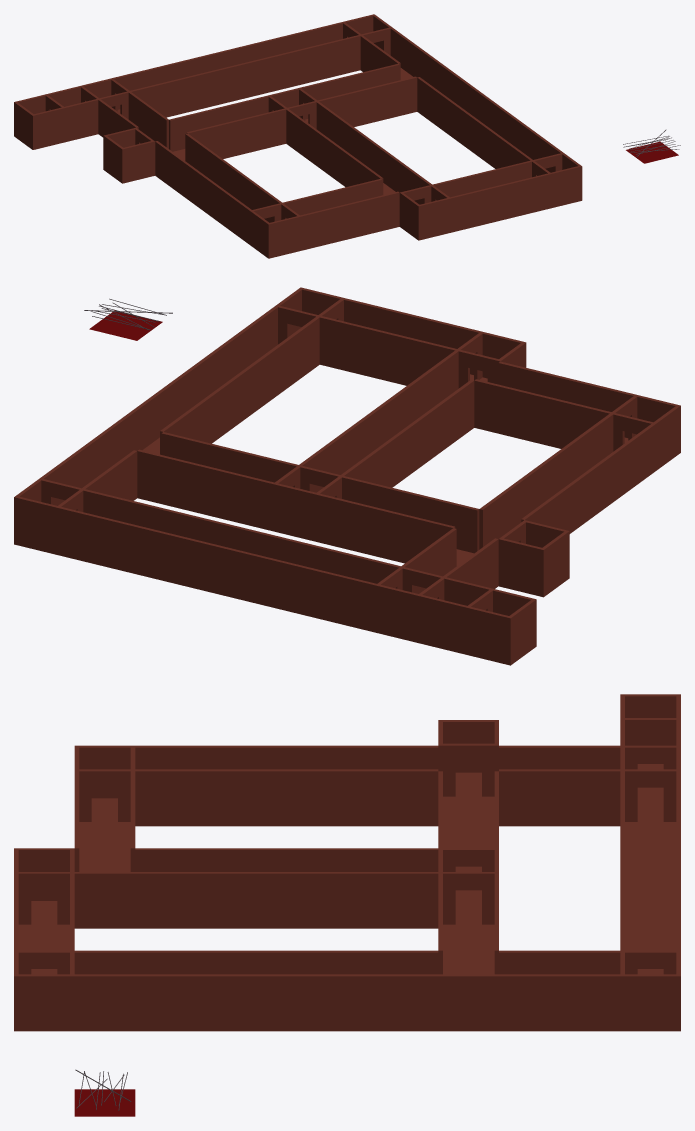
File: beta_mapa2.fbx
The picture shows the model from 3 angles, top to bottom: view 1: azimuth 30°, elevation 25°; view 2: azimuth 150°, elevation 25°; view 3: azimuth 270°, elevation 25°; orthographic projection. The views are drawn at different scales.
Parts seen in each view (by area): view 1: baseCube.016, baseCube.012, baseCube.078, baseCube.106, baseCube.057, baseCube.079, baseCube.059, baseCube.113, baseCube.102, baseCube.050, baseCube.104, baseCube.048 (+41 smaller); view 2: baseCube.012, baseCube.016, baseCube.014, baseCube.015, baseCube.059, baseCube.102, baseCube.078, baseCube.079, baseCube.104, baseCube.106, baseCube.048, baseCube.050 (+42 smaller); view 3: baseCube.096, baseCube.020, baseCube.026, baseCube.046, baseCube.042, baseCube.094, baseCube.021, baseCube.024, baseCube.098, baseCube.044, baseCube.085, baseCube.087 (+38 smaller).
Boxes of the visible parts, <box> form: baseCube.016: <box>103,127,155,183</box>; baseCube.012: <box>14,94,65,149</box>; baseCube.078: <box>366,63,417,119</box>; baseCube.106: <box>309,22,360,77</box>; baseCube.057: <box>178,54,229,109</box>; baseCube.079: <box>333,71,384,126</box>; baseCube.059: <box>211,46,262,102</box>; baseCube.113: <box>235,95,286,151</box>; baseCube.102: <box>243,38,294,93</box>; baseCube.050: <box>315,187,366,242</box>; baseCube.104: <box>276,30,327,85</box>; baseCube.048: <box>348,178,399,234</box>; baseCube.012: <box>465,588,536,665</box>; baseCube.016: <box>498,520,569,597</box>; baseCube.014: <box>375,566,445,643</box>; baseCube.015: <box>272,465,343,542</box>; baseCube.059: <box>194,522,265,599</box>; baseCube.102: <box>149,511,220,588</box>; baseCube.078: <box>137,432,207,508</box>; baseCube.079: <box>182,443,252,519</box>; baseCube.104: <box>104,500,174,576</box>; baseCube.106: <box>59,489,129,566</box>; baseCube.048: <box>474,361,544,438</box>; baseCube.050: <box>519,372,590,448</box>; baseCube.096: <box>377,745,438,826</box>; baseCube.020: <box>559,745,620,826</box>; baseCube.026: <box>256,745,317,826</box>; baseCube.046: <box>256,848,317,928</box>; baseCube.042: <box>377,848,438,928</box>; baseCube.094: <box>317,745,377,826</box>; baseCube.021: <box>135,745,195,826</box>; baseCube.024: <box>196,745,256,826</box>; baseCube.098: <box>499,745,559,826</box>; baseCube.044: <box>317,848,377,928</box>; baseCube.085: <box>196,848,256,928</box>; baseCube.087: <box>135,848,195,928</box>.
Size of the model in its own units: 2937 by 200 by 2200.
